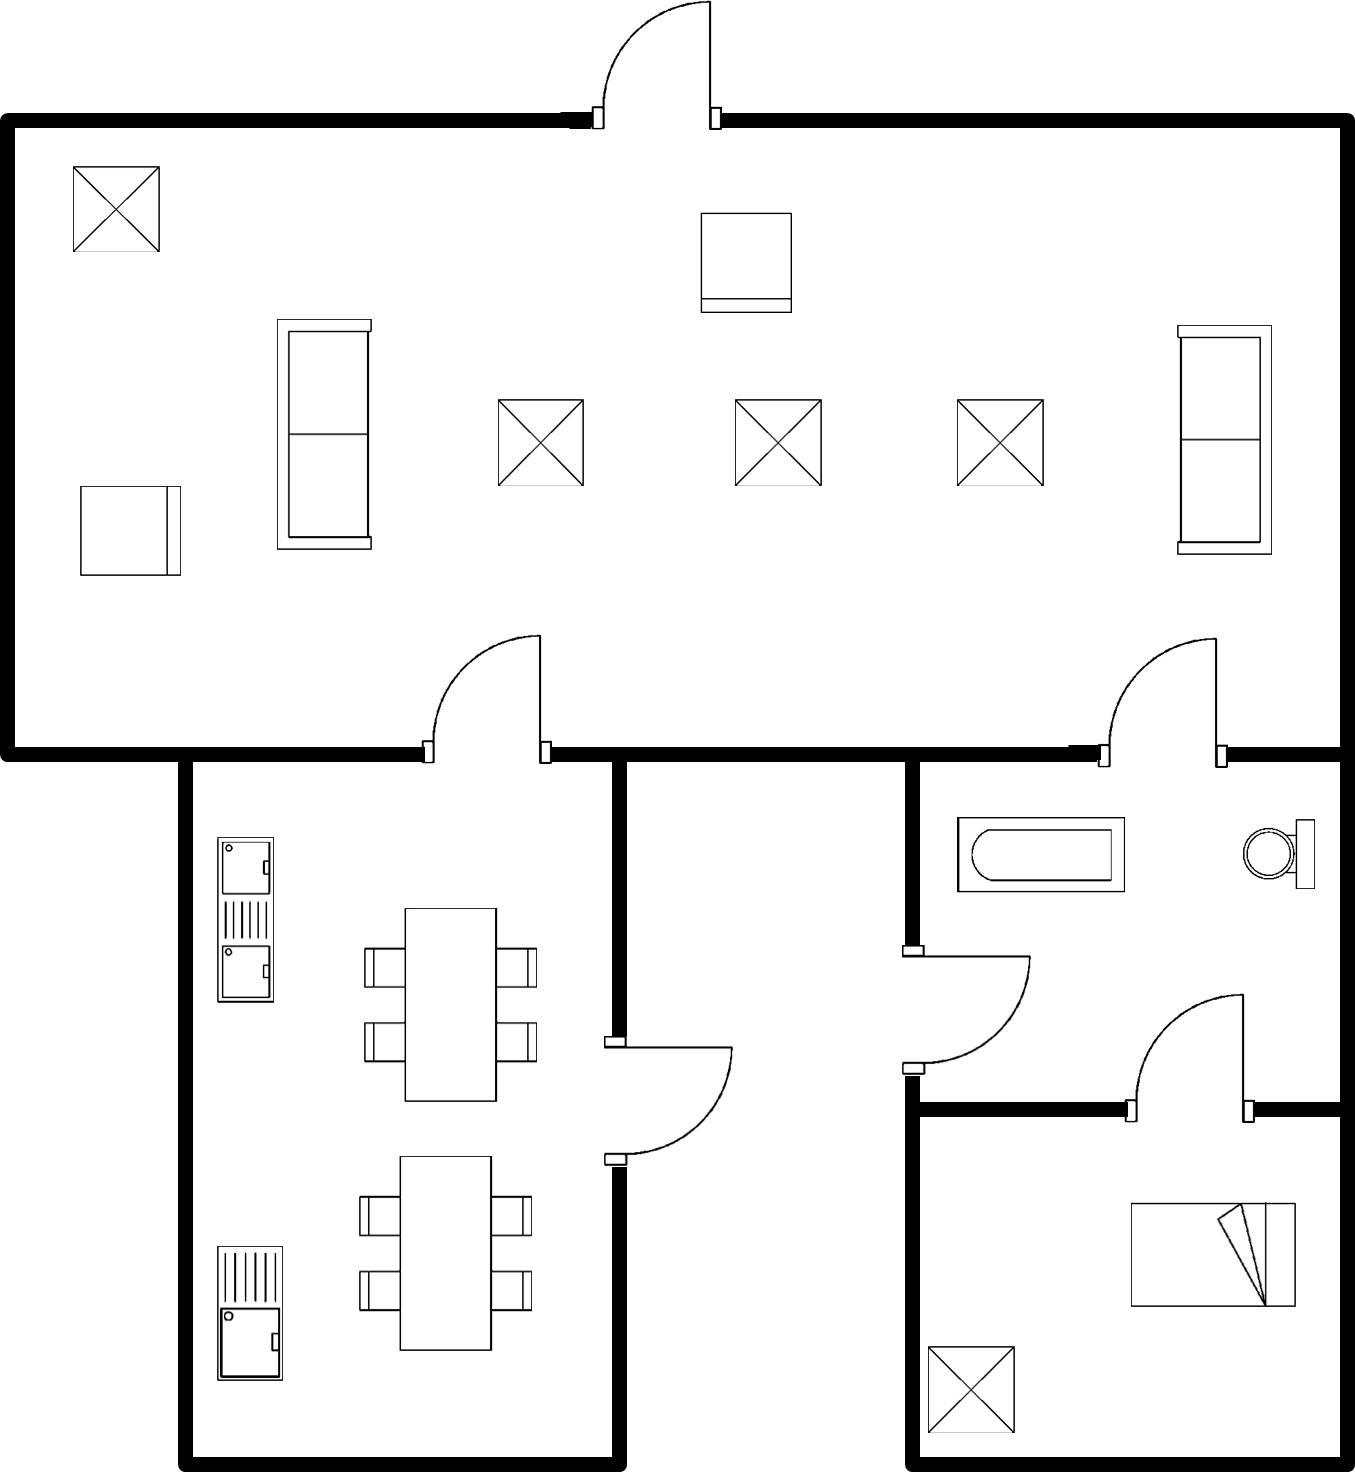sink: (204, 828, 287, 1016)
